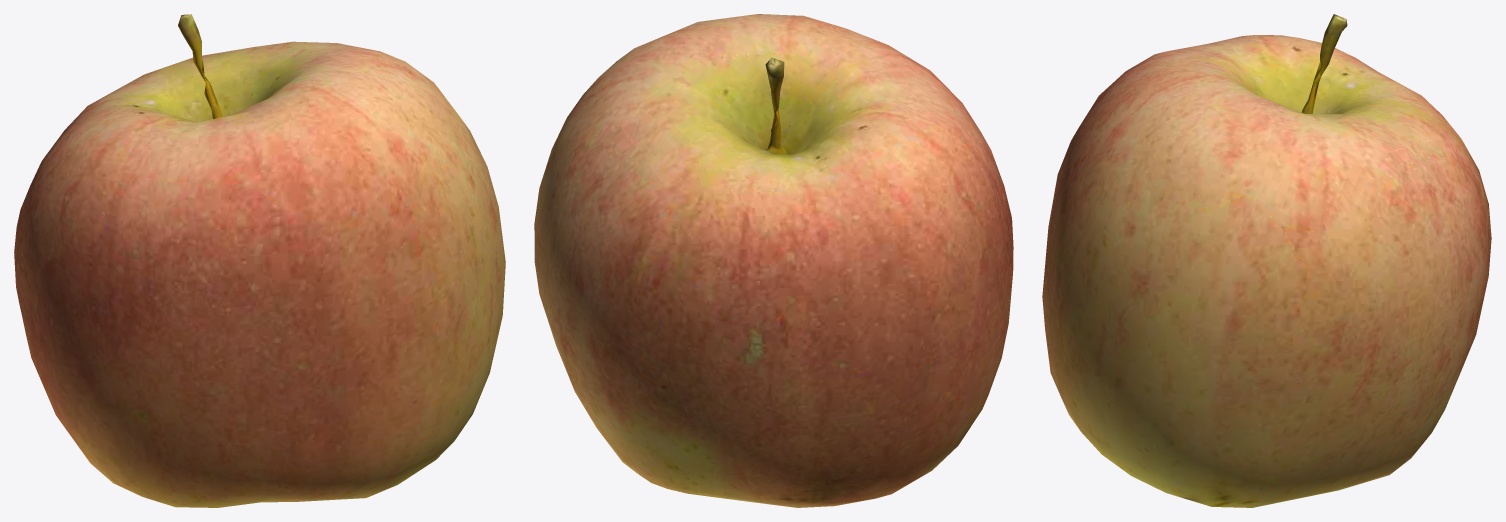
The picture shows the model from 3 angles, left to right: view 1: azimuth 30°, elevation 25°; view 2: azimuth 150°, elevation 25°; view 3: azimuth 270°, elevation 25°; orthographic projection. The views are drawn at different scales.
Visible parts, largest first — view 1: apple01_lr; view 2: apple01_lr; view 3: apple01_lr.
Boxes of the visible parts, <box> form: apple01_lr: <box>14,14,505,507</box>; apple01_lr: <box>534,14,1013,507</box>; apple01_lr: <box>1042,14,1491,507</box>.
Size of the model in its own units: 55.99 by 55.23 by 52.8.
1 material, 1 textured.
